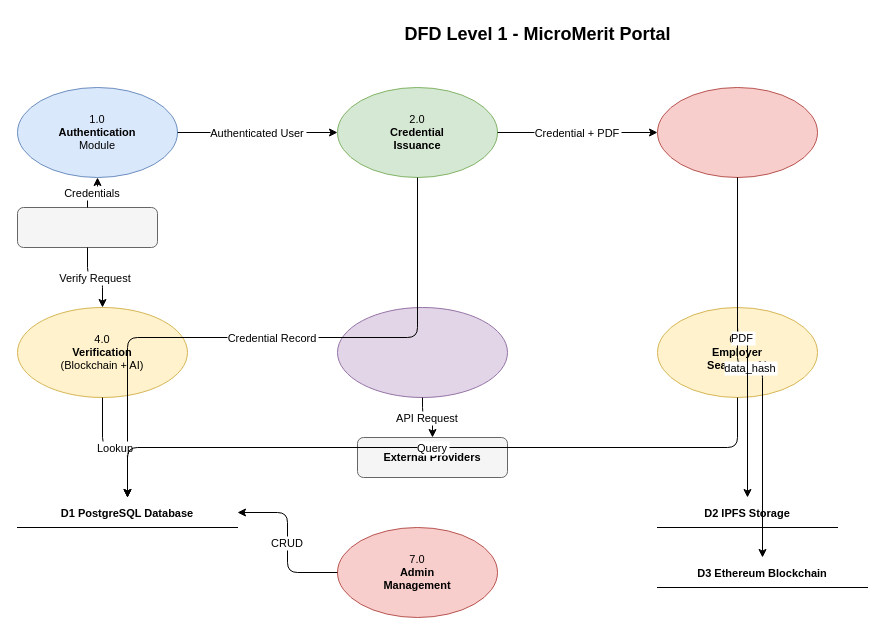
Image size: 885x635. Some labels were removed from this diagram. The shapes that lost their labels are listed below. From the top down, each one's centre as x and y in pixels, then its label:
At point 737,132: "3.0 Blockchain Anchoring".
At point 87,227: "User (All Roles)".
At point 422,352: "5.0 External Sync (Connector Pattern)".
